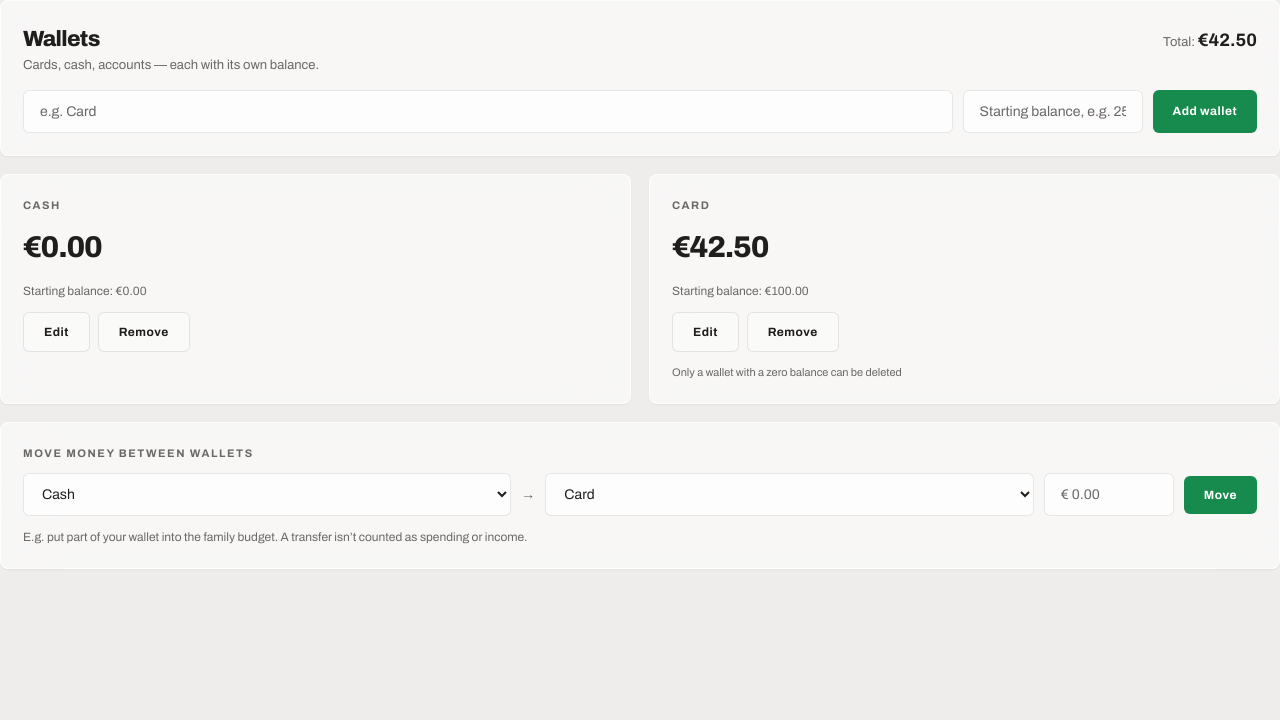
Wallets page › shows the server refusal when the balance changed meanwhile
The image size is (1280, 720).
Click the 1st button "Remove": point(144, 332) [98,312,190,352]
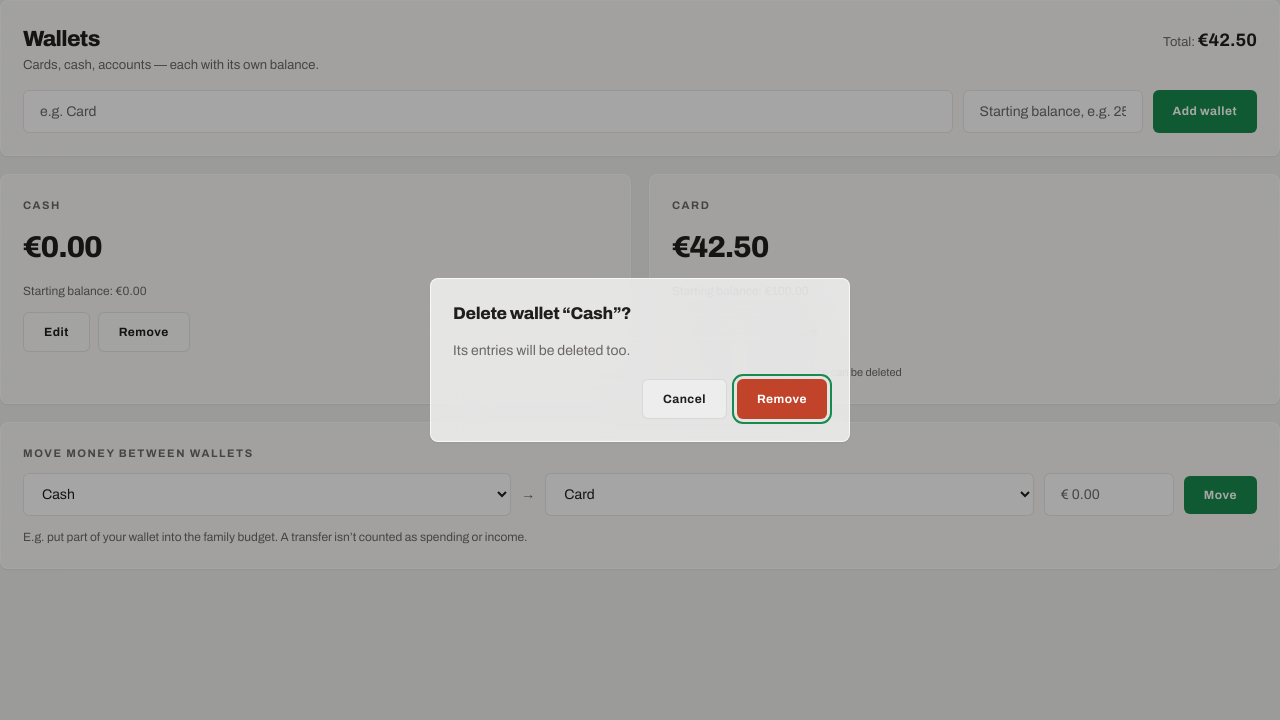
Click the button "Remove": point(782, 399) [737,379,827,419]
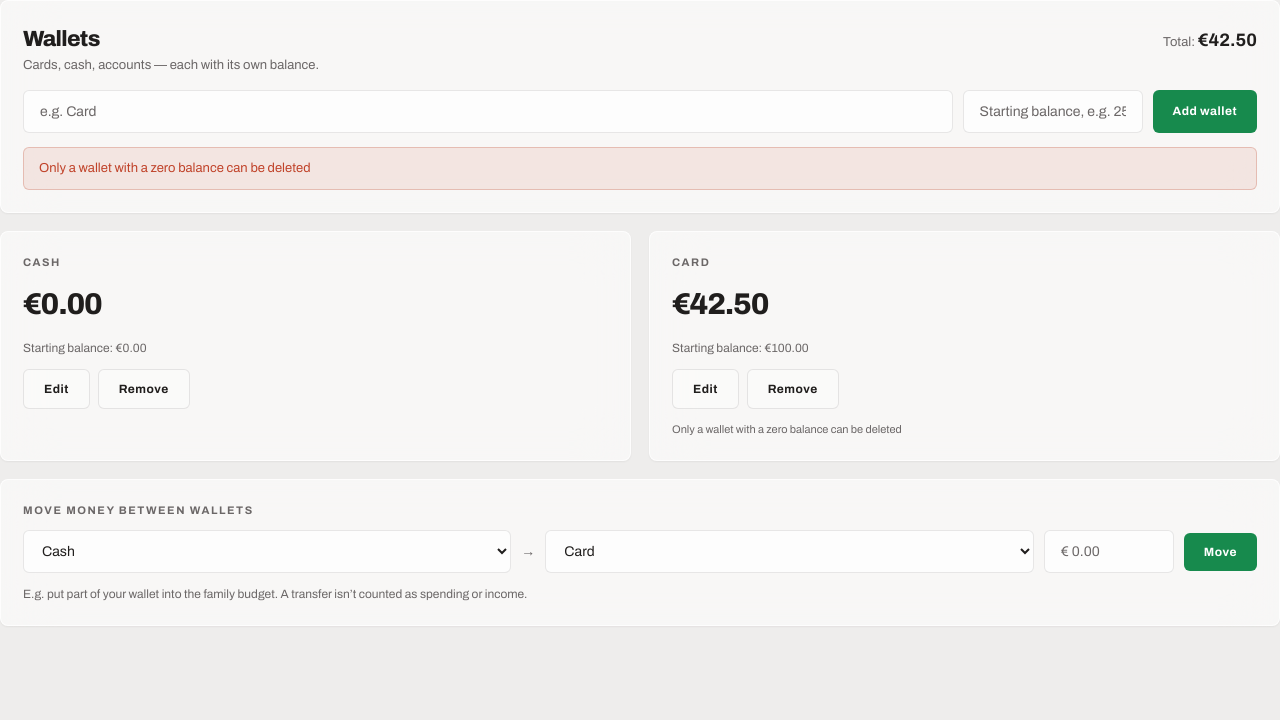
Now the text "Only a wallet with a zero balance can be deleted" below "Total" is shown, box [39,160,310,174]
